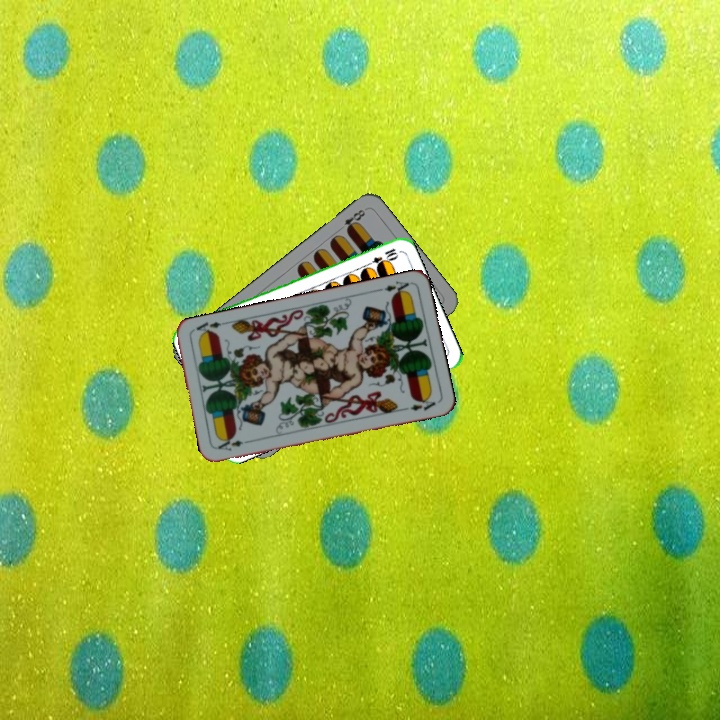E10: (361, 244, 400, 270)
E8: (334, 205, 369, 235)
EA: (373, 277, 413, 298), (214, 436, 254, 453)
